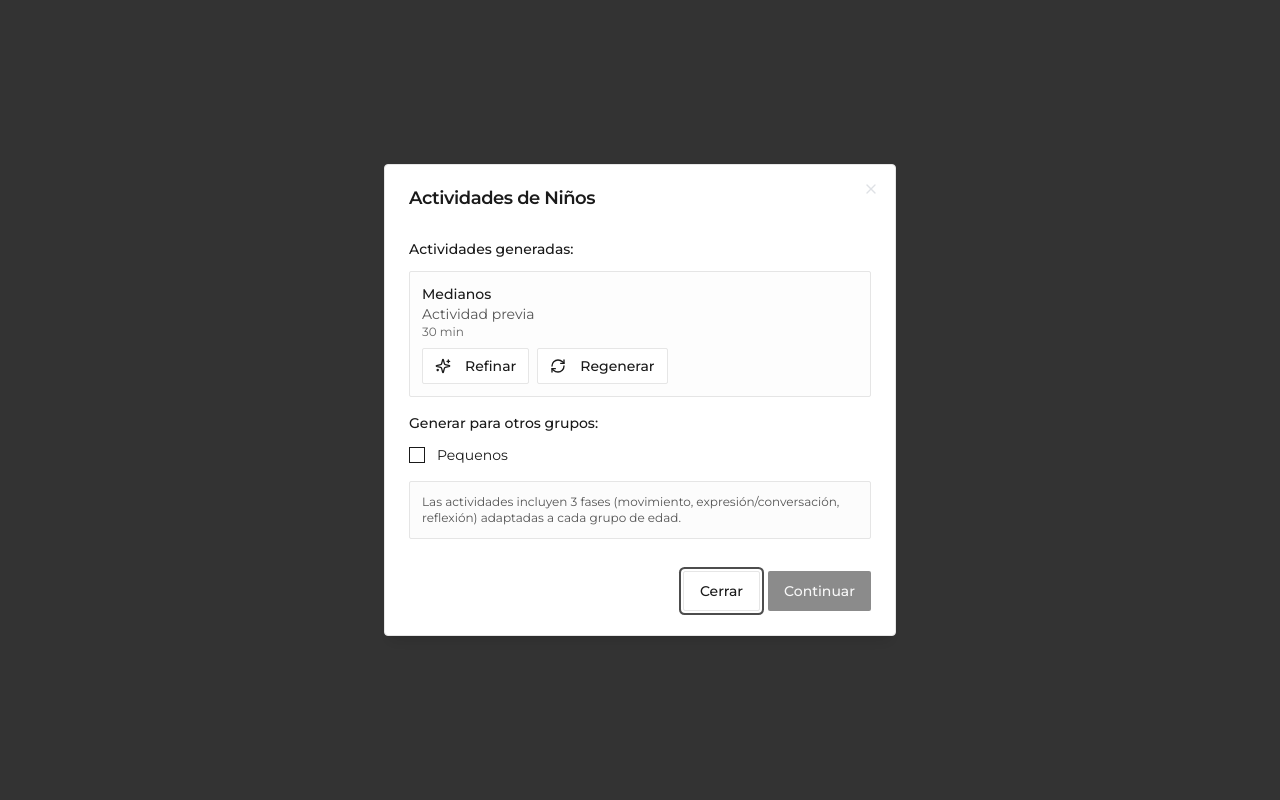
Test: [A2] el paso de materiales intercepta TODA generación › "Regenerar" pasa por el mismo paso y luego genera SOLO ese grupo (M-D7)
Later steps or results of the test are not shown.
Step 1. Click the button "Regenerar" → (602, 366), box [537,348,668,384]
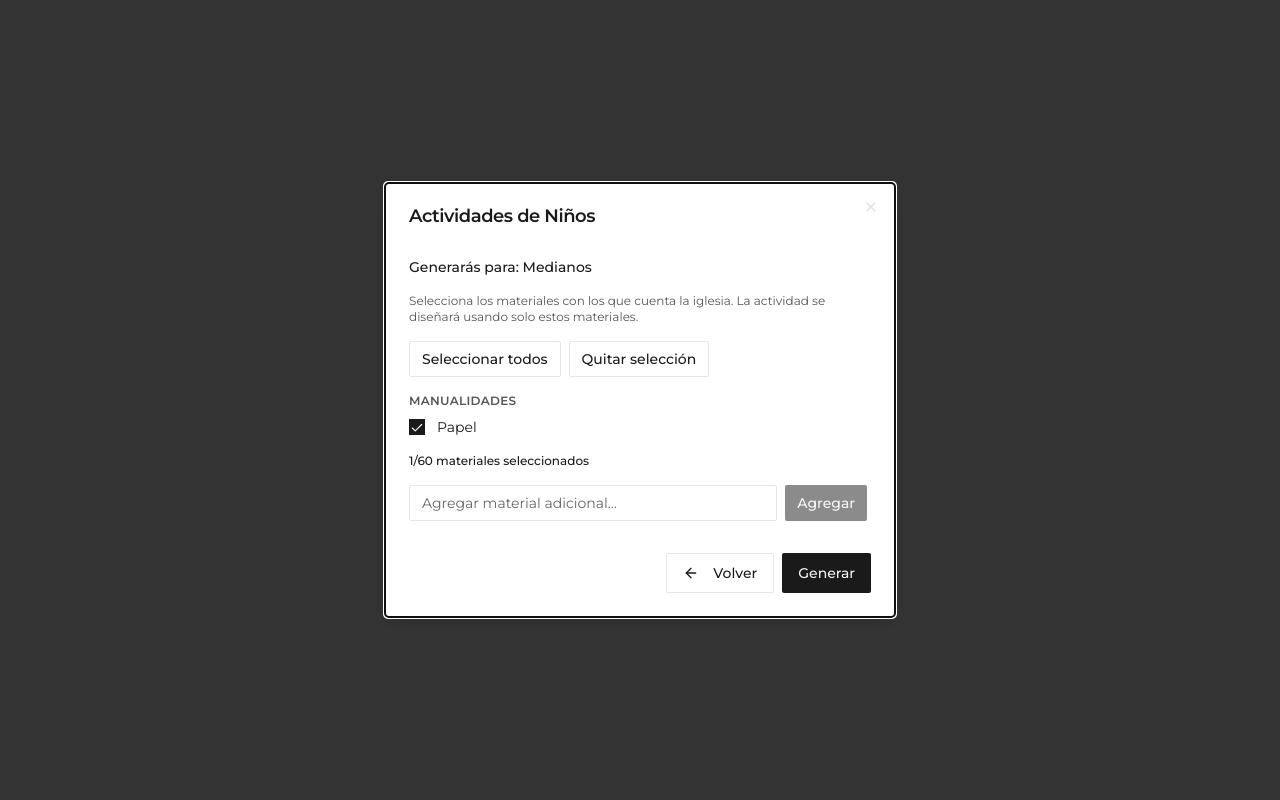
Expected: the button "Generar" is enabled, [782,553,871,593]
Result: the text "Generarás para: Medianos" is shown at [409,258,592,276]
